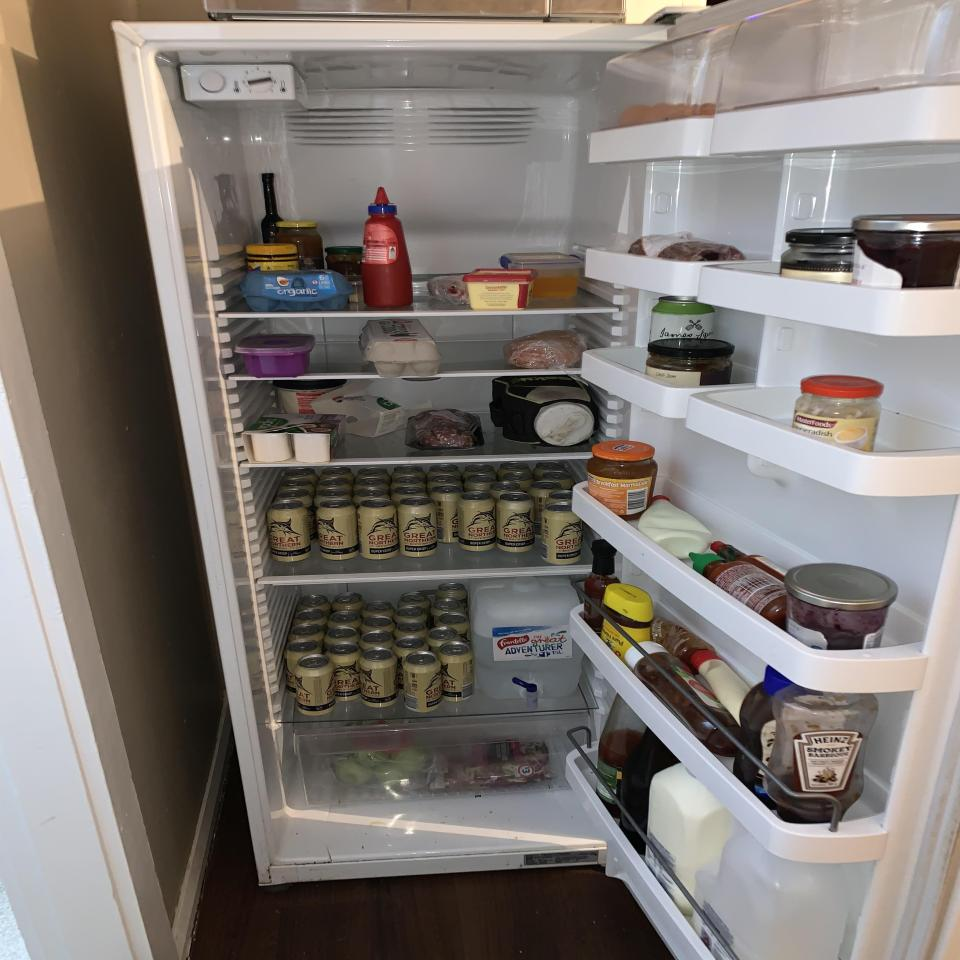Huevos: (241, 270, 352, 312), (361, 319, 440, 377)
Leche: (646, 764, 730, 920)
Mantequilla: (462, 269, 541, 310)
Manzana: (392, 747, 428, 770), (375, 764, 409, 787), (337, 762, 371, 784)
